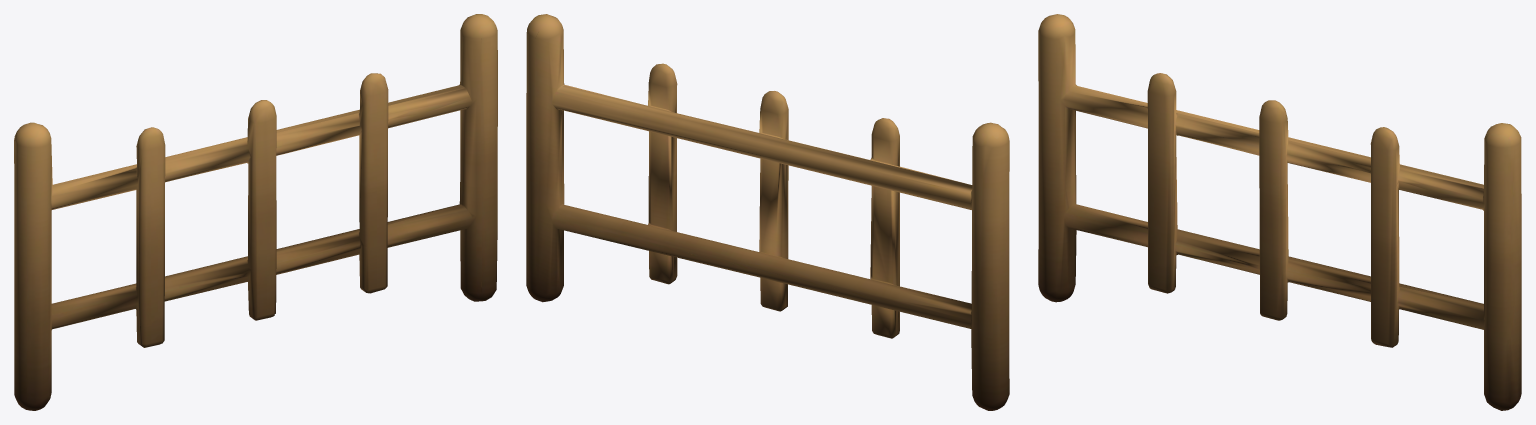
Rendered from fence.glb.
The picture shows the model from 3 angles, left to right: view 1: azimuth 30°, elevation 25°; view 2: azimuth 150°, elevation 25°; view 3: azimuth 330°, elevation 25°; orthographic projection.
Parts seen in each view (by area): view 1: wood; view 2: wood; view 3: wood.
Part boxes in pixels (x1,y1,x2,y2): wood: (14, 14, 497, 410); wood: (526, 14, 1009, 410); wood: (1038, 14, 1521, 410).
Bounding box in the file's own units: 1.93 × 1.1 × 0.1436.
1 material, 1 textured.
